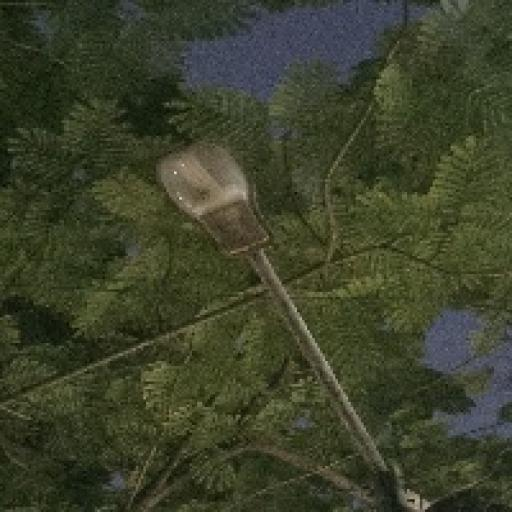Not Working: (134, 132, 294, 268)
